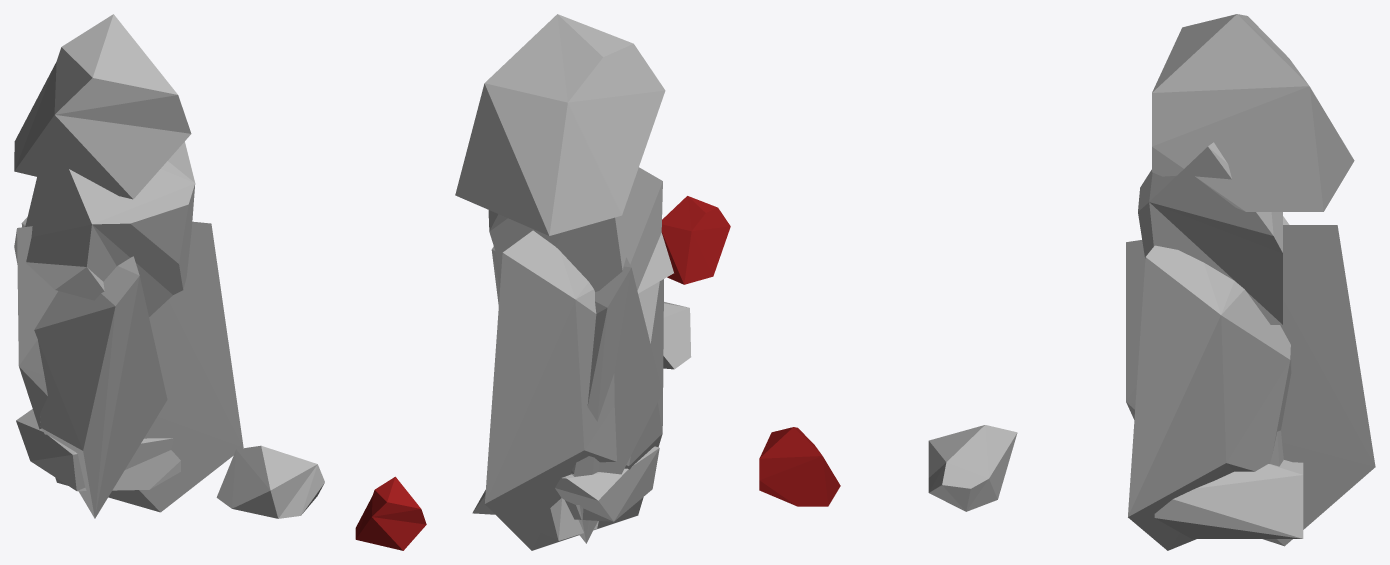
File: StoneProps.fbx
The picture shows the model from 3 angles, left to right: view 1: azimuth 30°, elevation 25°; view 2: azimuth 150°, elevation 25°; view 3: azimuth 270°, elevation 25°; orthographic projection. The views are drawn at different scales.
Visible parts, largest first — view 1: StonePillar, Rock, Ruby; view 2: StonePillar, Ruby, Rock; view 3: StonePillar, Rock, Ruby.
Boxes of the visible parts, box(x1,y1,x2,y2) form: StonePillar: box(14, 14, 243, 518); Rock: box(216, 445, 324, 518); Ruby: box(355, 476, 426, 550); StonePillar: box(455, 14, 673, 550); Ruby: box(661, 196, 730, 284); Rock: box(663, 302, 691, 369); StonePillar: box(1126, 14, 1375, 550); Rock: box(928, 425, 1017, 511); Ruby: box(759, 427, 840, 506).
Bounding box in the file's own units: 42.64 × 98.54 × 104.
